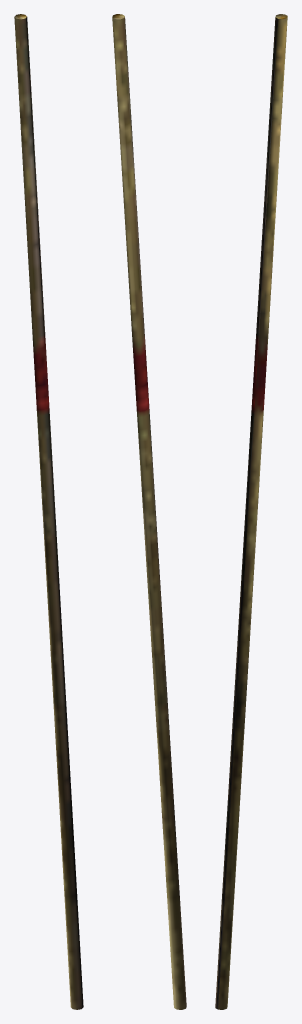
File: no_head_spear.dae
3 views of the same model, side by side, from view 1: azimuth 90°, elevation 25°; view 2: azimuth 150°, elevation 25°; view 3: azimuth 330°, elevation 25° (orthographic). The views are drawn at different scales.
Visible parts, largest first — view 1: Spear; view 2: Spear; view 3: Spear.
Boxes of the visible parts, x1,y1,x2,y2 form: Spear: (14,14,83,1009); Spear: (112,14,186,1009); Spear: (215,14,287,1009).
Size of the model in its own units: 0.1887 by 0.2639 by 4.1.
